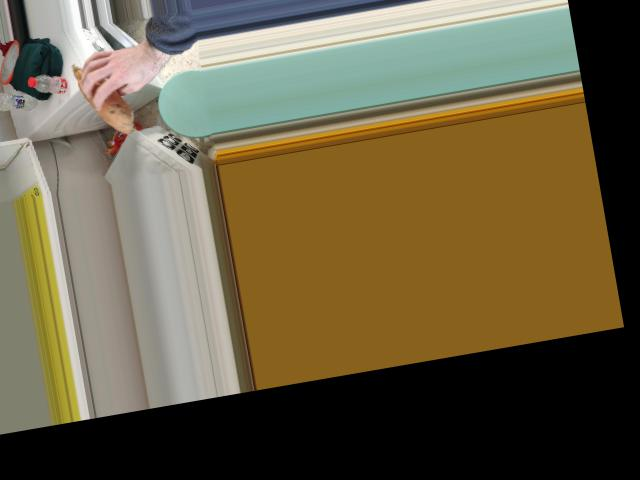sweet_potato: (74, 52, 136, 137)
